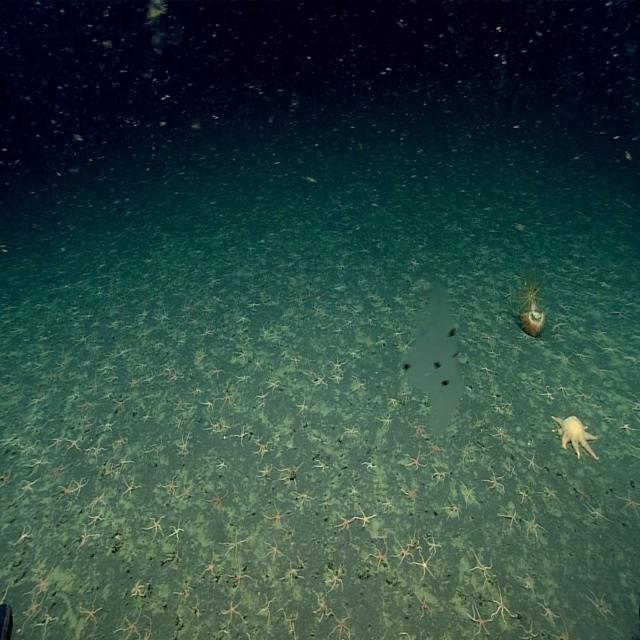brittle-stars: (155, 542, 187, 576), (277, 600, 303, 640), (167, 574, 200, 604), (255, 588, 278, 628), (468, 603, 493, 636), (492, 588, 513, 624), (186, 596, 207, 631), (118, 612, 144, 640), (80, 596, 104, 626), (221, 530, 245, 560), (30, 566, 54, 596), (470, 552, 493, 583), (585, 589, 610, 617), (329, 610, 352, 640), (52, 474, 74, 504), (368, 543, 389, 574), (266, 504, 288, 532), (414, 553, 435, 581), (552, 619, 579, 640), (220, 598, 243, 622), (282, 559, 303, 585), (201, 551, 219, 581), (619, 491, 640, 516), (143, 515, 164, 540), (524, 514, 544, 540), (73, 526, 95, 549), (207, 488, 228, 512), (24, 596, 45, 620), (313, 590, 330, 619), (277, 464, 299, 486), (27, 451, 49, 473), (12, 528, 34, 550), (1, 430, 23, 452), (537, 597, 556, 622), (326, 565, 344, 591), (587, 500, 608, 522), (354, 507, 375, 529), (501, 507, 521, 530), (406, 449, 426, 472), (231, 564, 251, 587), (38, 366, 58, 389), (120, 475, 139, 499), (38, 608, 57, 632), (460, 482, 478, 506), (266, 538, 284, 562), (485, 471, 505, 492), (148, 335, 168, 356), (416, 592, 432, 618), (511, 328, 537, 344), (168, 520, 186, 543), (402, 481, 420, 504), (394, 541, 411, 565), (20, 478, 40, 498), (134, 320, 154, 340), (198, 300, 218, 320), (426, 440, 444, 462), (295, 490, 315, 509), (444, 498, 462, 519), (336, 514, 354, 534), (523, 452, 541, 472), (163, 476, 180, 497), (425, 533, 441, 555), (521, 621, 539, 640), (113, 394, 133, 411), (371, 333, 388, 353), (540, 486, 558, 504), (90, 492, 108, 510), (51, 460, 69, 478), (491, 424, 508, 443), (71, 478, 88, 497), (89, 442, 106, 461), (174, 322, 191, 341), (148, 440, 164, 460), (132, 579, 147, 600), (407, 534, 422, 555), (592, 365, 616, 378), (522, 572, 536, 594), (135, 394, 149, 416), (342, 424, 360, 441), (88, 512, 106, 529), (171, 394, 188, 412), (21, 437, 38, 455), (599, 343, 619, 358), (178, 484, 192, 505), (431, 466, 448, 483), (549, 317, 566, 334), (219, 390, 235, 408), (100, 416, 116, 434), (138, 624, 156, 640), (139, 412, 157, 428), (411, 419, 426, 438), (488, 310, 507, 325), (254, 440, 268, 460), (112, 434, 126, 454), (177, 435, 190, 456), (556, 380, 572, 397), (557, 349, 573, 366), (331, 355, 347, 372), (509, 340, 525, 357), (234, 426, 249, 444), (89, 377, 104, 395), (0, 468, 13, 488), (258, 463, 274, 479), (378, 414, 394, 430), (66, 438, 82, 454), (207, 362, 223, 378), (352, 376, 367, 393), (315, 458, 330, 475), (52, 434, 66, 452), (236, 370, 251, 386), (572, 347, 588, 362), (460, 443, 472, 463), (30, 392, 46, 407), (518, 486, 532, 503), (333, 321, 346, 339), (268, 378, 283, 393), (27, 421, 42, 436), (202, 396, 216, 412), (576, 388, 592, 402), (482, 332, 498, 346), (621, 420, 635, 436), (206, 418, 220, 434), (116, 454, 130, 470), (243, 331, 256, 348), (383, 494, 395, 512), (313, 374, 327, 389), (296, 394, 306, 415), (362, 458, 376, 473), (168, 370, 182, 385), (399, 630, 420, 640), (78, 399, 92, 414), (541, 385, 554, 401), (255, 388, 268, 404), (504, 462, 517, 478), (195, 348, 208, 364), (67, 386, 80, 402), (472, 415, 484, 432), (253, 354, 264, 372), (235, 321, 246, 339), (480, 362, 494, 376), (332, 372, 346, 386), (348, 347, 362, 361), (106, 348, 120, 362), (202, 324, 215, 339), (129, 372, 141, 388), (262, 322, 274, 338), (576, 487, 588, 503), (108, 314, 120, 330), (237, 347, 249, 363), (403, 384, 414, 401), (237, 313, 251, 326), (117, 345, 130, 359), (102, 361, 115, 375), (399, 340, 411, 355), (84, 417, 96, 432), (216, 457, 228, 471), (246, 300, 260, 312), (192, 381, 204, 395), (301, 353, 312, 368), (104, 463, 115, 478), (349, 482, 359, 498), (406, 302, 419, 314), (387, 394, 399, 407), (138, 307, 150, 320), (143, 371, 155, 384), (502, 396, 513, 410), (160, 310, 171, 324), (182, 302, 193, 316), (321, 495, 331, 510), (344, 316, 356, 328), (595, 326, 607, 338), (631, 446, 640, 462), (487, 348, 499, 360), (365, 314, 376, 327), (492, 403, 503, 416), (162, 361, 173, 374), (280, 320, 291, 333), (173, 416, 184, 429), (103, 388, 114, 401), (218, 420, 228, 434), (272, 428, 282, 442), (290, 353, 300, 367), (280, 346, 290, 360), (246, 284, 257, 296), (553, 332, 565, 343), (138, 358, 148, 371), (273, 332, 283, 345), (632, 397, 640, 413), (383, 305, 394, 316), (338, 302, 348, 314), (490, 389, 500, 401), (411, 256, 421, 268), (591, 400, 603, 410), (464, 383, 474, 395), (314, 306, 324, 317), (393, 328, 403, 339), (306, 366, 316, 377), (295, 294, 304, 306), (392, 293, 402, 303), (352, 306, 362, 316), (188, 316, 198, 326), (320, 289, 328, 301)
